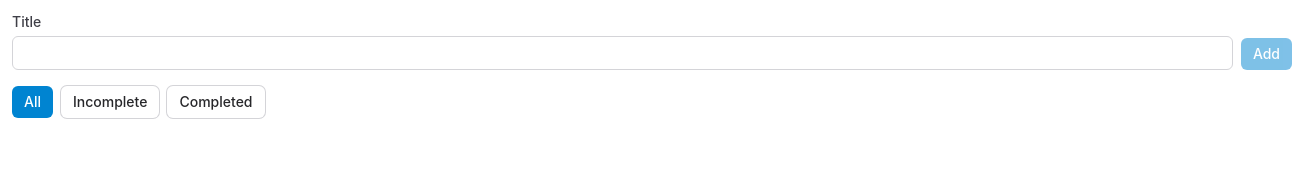
Test: TodoList › creates and lists an item
Type "buy milk" into the field labelled "Title".
click(622, 53); type("buy milk")  # box x1=12 y1=36 x2=1233 y2=70
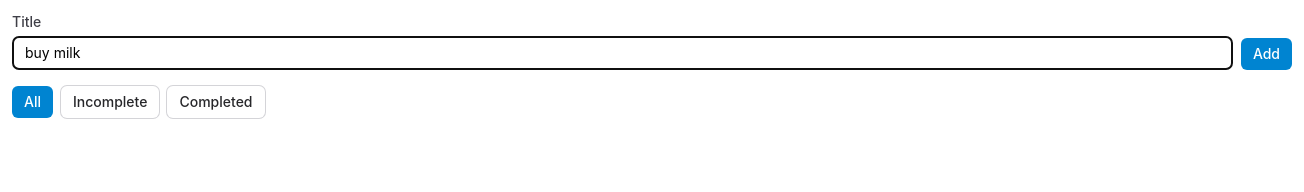
Click the button "Add".
click(1266, 54)  # box x1=1241 y1=38 x2=1292 y2=70
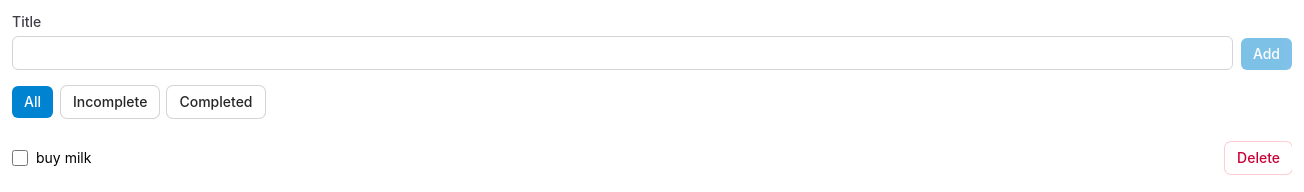
Result: the checkbox labelled "buy milk" is shown at x1=12 y1=150 x2=28 y2=166
